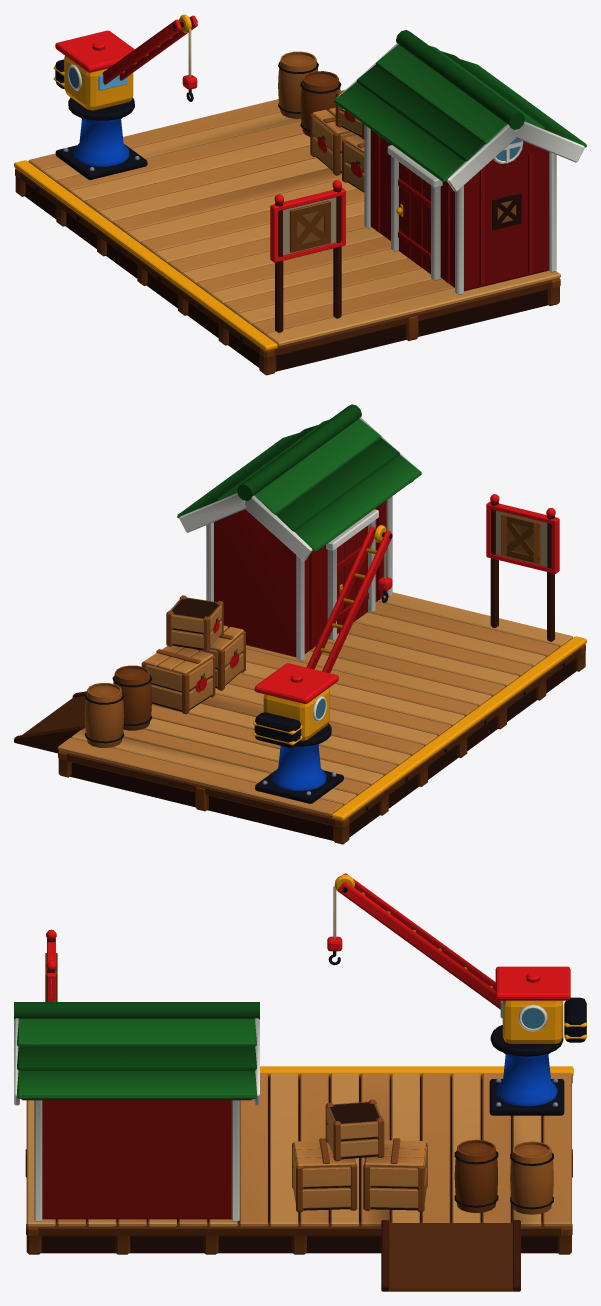
Rendered from CargoYard.fbx.
The picture shows the model from 3 angles, top to bottom: view 1: azimuth 30°, elevation 25°; view 2: azimuth 150°, elevation 25°; view 3: azimuth 270°, elevation 25°; orthographic projection. The views are drawn at different scales.
Parts seen in each view (by area): view 1: CargoYard, Crane; view 2: CargoYard, Crane; view 3: CargoYard, Crane.
Part boxes in pixels (bbox=[...]): CargoYard: bbox=[14, 30, 586, 375]; Crane: bbox=[53, 14, 197, 120]; CargoYard: bbox=[14, 404, 586, 844]; Crane: bbox=[253, 525, 392, 747]; CargoYard: bbox=[14, 929, 573, 1291]; Crane: bbox=[327, 873, 586, 1056].
Bounding box in the file's own units: 4.54 × 2.82 × 5.66.
